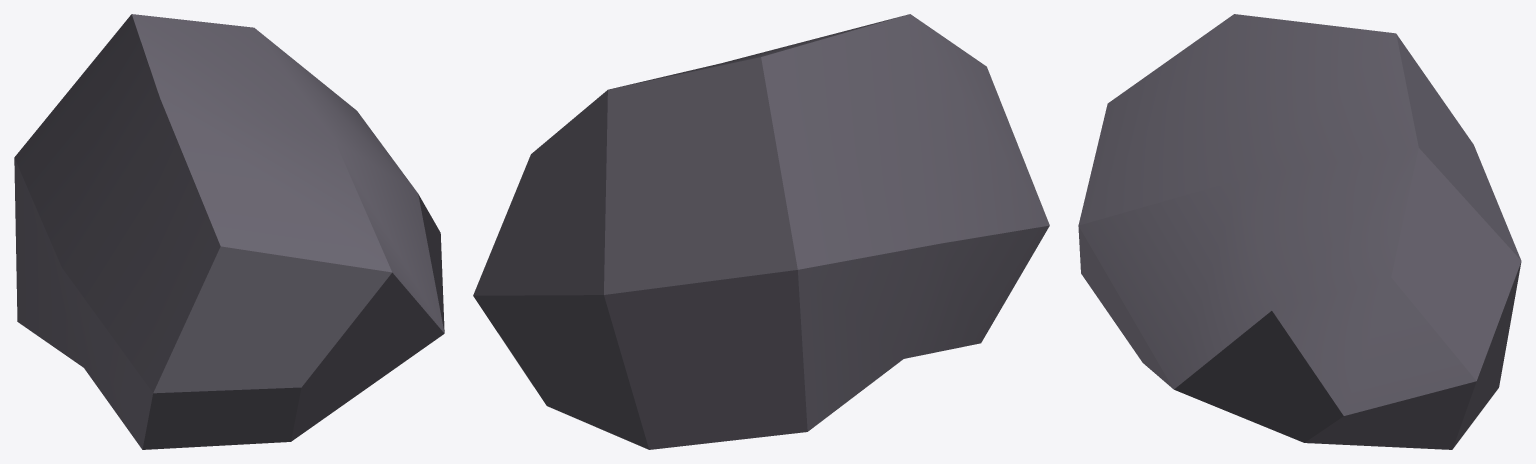
File: Rocha1.fbx
3 views of the same model, side by side, from view 1: azimuth 30°, elevation 25°; view 2: azimuth 150°, elevation 25°; view 3: azimuth 270°, elevation 25° (orthographic). The views are drawn at different scales.
Parts seen in each view (by area): view 1: rock.006; view 2: rock.006; view 3: rock.006.
Part boxes in pixels (x1=…): rock.006: x1=14, y1=14, x2=444, y2=449; rock.006: x1=473, y1=14, x2=1049, y2=449; rock.006: x1=1078, y1=14, x2=1521, y2=449.
Size of the model in its own units: 125 by 104 by 124.
Materials: 1 (1 with a texture image).
